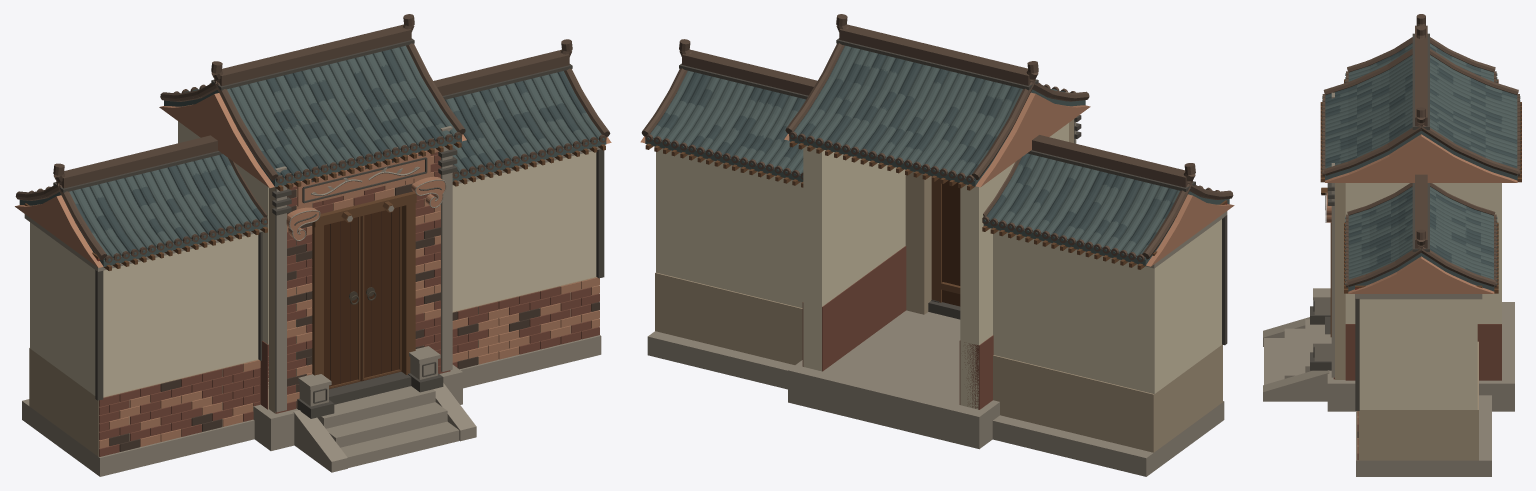
The model's file is Ruyi_Gate.obj.
The picture shows the model from 3 angles, left to right: view 1: azimuth 30°, elevation 25°; view 2: azimuth 150°, elevation 25°; view 3: azimuth 270°, elevation 25°; orthographic projection. The views are drawn at different scales.
Visible parts, largest first — view 1: 52_Wing_Left_Plaster_plaster, 52_Wing_Right_Plaster_plaster, 70_Main_Barrel_Tiles_tile, 71_Wing_Left_Barrel_Tiles_tile, 02_Three_Steps_stone, 51_Wing_Left_Brick_Base_Brickwork_brick, 71_Wing_Right_Barrel_Tiles_tile, 23_Door_Right_wood_door, 70_Main_Barrel_Tiles_tile2, 23_Door_Left_wood_door, 14_Front_Stone_Stiles_stone, 50_Wing_Left_Foundation_stone (+50 smaller); view 2: 52_Wing_Left_Plaster_plaster, 12_Main_Side_Walls_plaster, 52_Wing_Right_Plaster_plaster, 01_Main_Platform_stone, 51_Wing_Left_Brick_Base_Core_mortar, 70_Main_Barrel_Tiles_tile, 51_Wing_Right_Brick_Base_Core_mortar, 71_Wing_Left_Barrel_Tiles_tile, 13_Main_Side_Skirting_brick, 71_Wing_Right_Barrel_Tiles_tile, 70_Main_Barrel_Tiles_tile2, 50_Wing_Left_Foundation_stone (+27 smaller); view 3: 52_Wing_Right_Plaster_plaster, 70_Main_Barrel_Tiles_tile, 51_Wing_Right_Brick_Base_Core_mortar, 71_Wing_Right_Barrel_Tiles_tile, 70_Main_Barrel_Tiles_tile2, 70_Main_Gable_Wall_brick_light, 12_Main_Side_Walls_plaster, 50_Wing_Right_Foundation_stone, 71_Wing_Right_Barrel_Tiles_tile2, 01_Main_Platform_stone, 70_Main_Gable_Coping_ridge, 71_Wing_Right_Gable_Wall_brick_light (+22 smaller).
Part boxes in pixels (x1,y1,x2,y2): 52_Wing_Left_Plaster_plaster: (30, 222, 258, 396); 52_Wing_Right_Plaster_plaster: (452, 151, 596, 311); 70_Main_Barrel_Tiles_tile: (184, 45, 456, 173); 71_Wing_Left_Barrel_Tiles_tile: (69, 155, 258, 261); 02_Three_Steps_stone: (317, 386, 459, 467); 51_Wing_Left_Brick_Base_Brickwork_brick: (99, 364, 260, 456); 71_Wing_Right_Barrel_Tiles_tile: (445, 72, 601, 173); 23_Door_Right_wood_door: (360, 207, 401, 381); 70_Main_Barrel_Tiles_tile2: (256, 49, 443, 181); 23_Door_Left_wood_door: (324, 217, 360, 389); 14_Front_Stone_Stiles_stone: (275, 126, 452, 412); 50_Wing_Left_Foundation_stone: (22, 399, 254, 476); 52_Wing_Left_Plaster_plaster: (993, 219, 1221, 393); 12_Main_Side_Walls_plaster: (803, 123, 1068, 409); 52_Wing_Right_Plaster_plaster: (656, 148, 803, 308); 01_Main_Platform_stone: (788, 310, 999, 449); 51_Wing_Left_Brick_Base_Core_mortar: (993, 344, 1222, 452); 70_Main_Barrel_Tiles_tile: (794, 45, 1057, 177); 51_Wing_Right_Brick_Base_Core_mortar: (655, 272, 802, 364); 71_Wing_Left_Barrel_Tiles_tile: (992, 154, 1179, 259); 13_Main_Side_Skirting_brick: (802, 246, 993, 409); 71_Wing_Right_Barrel_Tiles_tile: (650, 70, 803, 174); 70_Main_Barrel_Tiles_tile2: (800, 53, 1064, 180); 50_Wing_Left_Foundation_stone: (992, 401, 1224, 476); 52_Wing_Right_Plaster_plaster: (1359, 299, 1477, 409); 70_Main_Barrel_Tiles_tile: (1325, 55, 1517, 175); 51_Wing_Right_Brick_Base_Core_mortar: (1358, 341, 1478, 460); 71_Wing_Right_Barrel_Tiles_tile: (1348, 186, 1494, 286); 70_Main_Barrel_Tiles_tile2: (1325, 58, 1517, 168); 70_Main_Gable_Wall_brick_light: (1325, 134, 1517, 182); 12_Main_Side_Walls_plaster: (1345, 183, 1501, 323); 50_Wing_Right_Foundation_stone: (1356, 395, 1491, 476); 71_Wing_Right_Barrel_Tiles_tile2: (1348, 190, 1493, 275); 01_Main_Platform_stone: (1327, 302, 1514, 411); 70_Main_Gable_Coping_ridge: (1323, 48, 1518, 175); 71_Wing_Right_Gable_Wall_brick_light: (1348, 256, 1494, 293).
Size of the model in its own units: 6.03 by 3.89 by 3.01.
